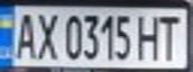0: (60, 10, 81, 61)
1: (97, 11, 118, 61)
3: (81, 11, 100, 61)
5: (115, 11, 136, 61)
A: (9, 9, 39, 61)
H: (136, 11, 163, 62)
T: (154, 11, 184, 61)
X: (33, 9, 60, 61)
